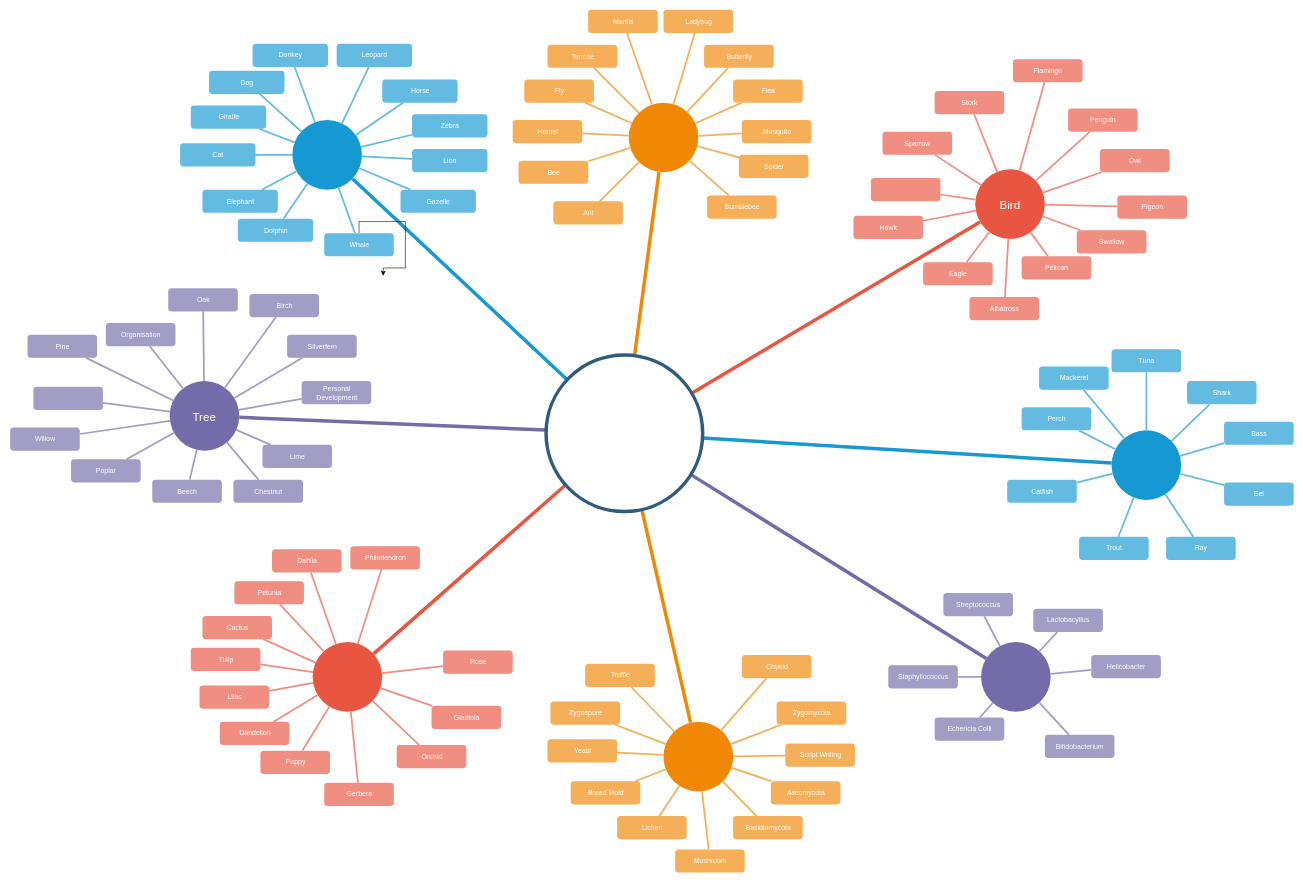
The diagram is 1303 pixels wide and 883 high, and some of its shapes have lost their labels. Each missing label, with the centre of its shape:
"Acacia" goes at point (68, 398).
"Bacteria" goes at point (1015, 676).
"Falcon" goes at point (905, 189).
"Fish" goes at point (1146, 465).
"Flower" goes at point (347, 676).
"Fungi" goes at point (698, 756).
"Insect" goes at point (663, 137).
"LIVING BEINGS" goes at point (624, 433).
"teste" goes at point (327, 154).
